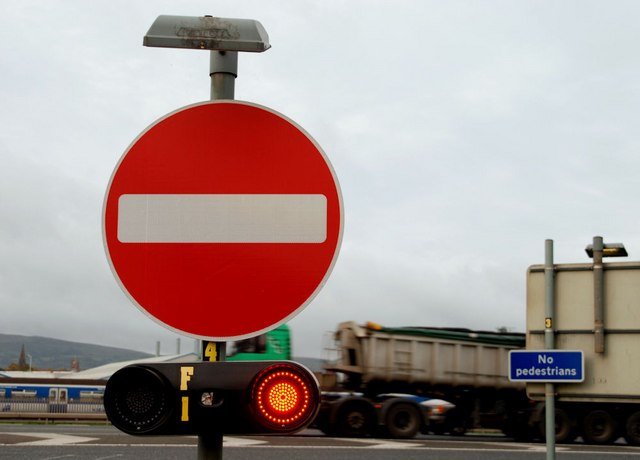No_entry: (102, 100, 346, 341)
